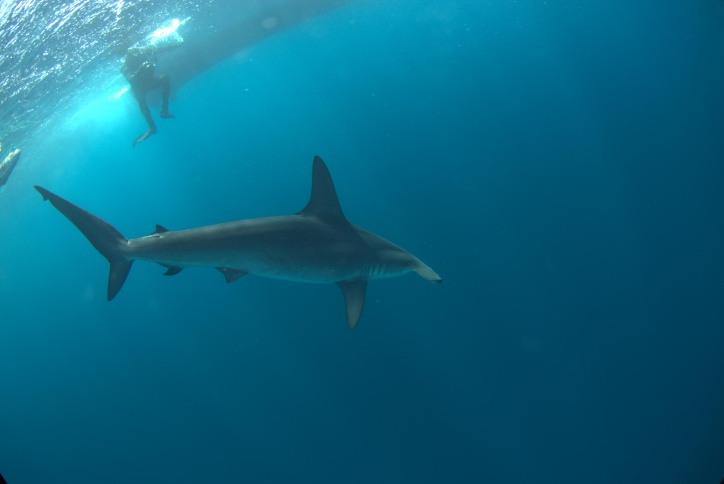Hammer: (18, 161, 457, 343)
